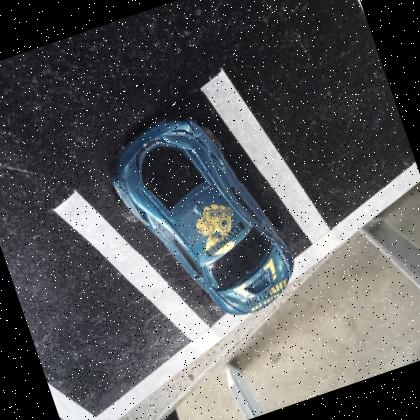Car: (111, 115, 294, 315)
